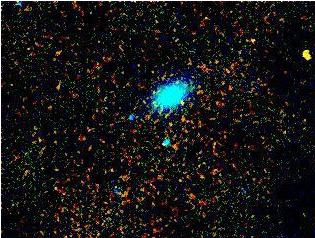star: (290, 34, 315, 64)
